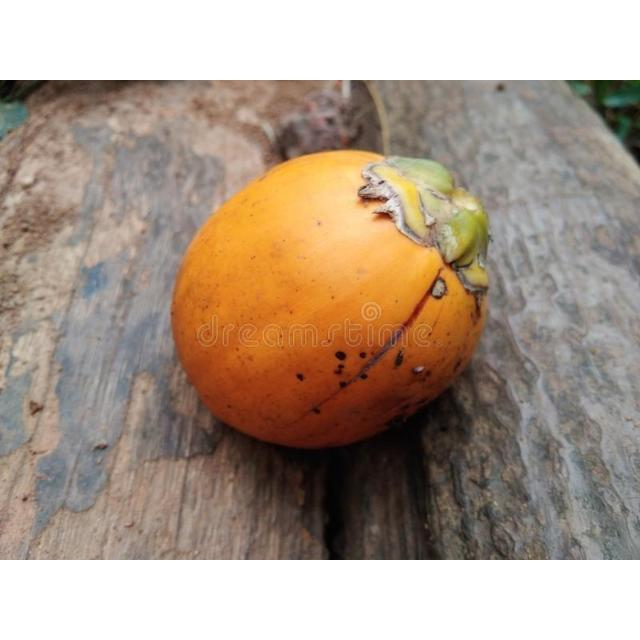good: (170, 150, 490, 452)
